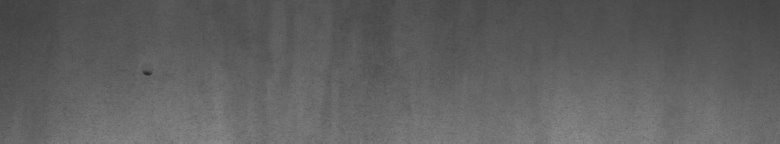fi: (140, 64, 156, 83)
